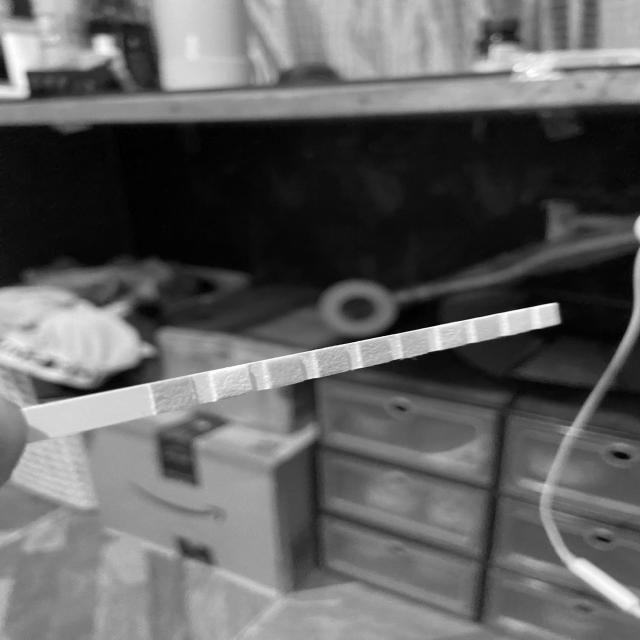Bilirubin: (219, 371, 246, 394)
Blood: (364, 342, 386, 363)
Glucose: (158, 384, 192, 405)
Ketone: (272, 361, 300, 382)
Leukocytes: (542, 306, 557, 324)
Nitrite: (511, 312, 530, 330)
Protein: (442, 326, 462, 346)
SpGravity: (320, 349, 344, 372)
Urobilinogen: (477, 319, 495, 338)
background: (0, 0, 640, 640)
pH: (404, 334, 424, 354)
strip: (22, 303, 561, 443)
